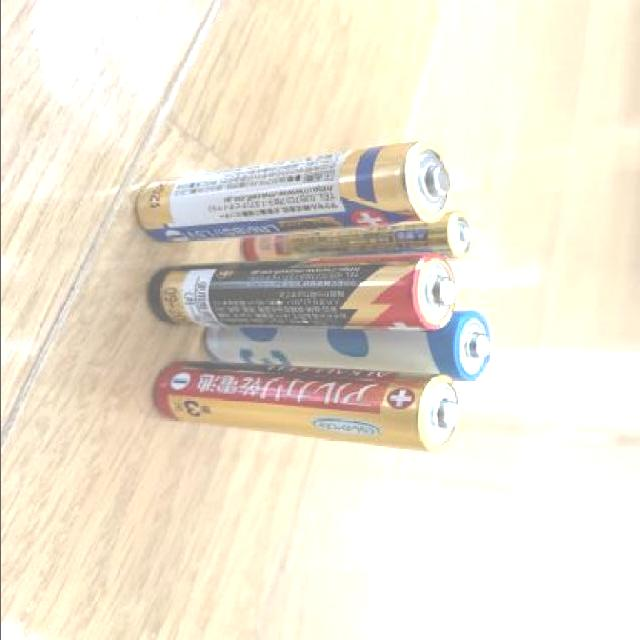AAA: (130, 128, 456, 248), (148, 360, 464, 462), (146, 248, 459, 337), (200, 310, 489, 384), (238, 206, 471, 268)
